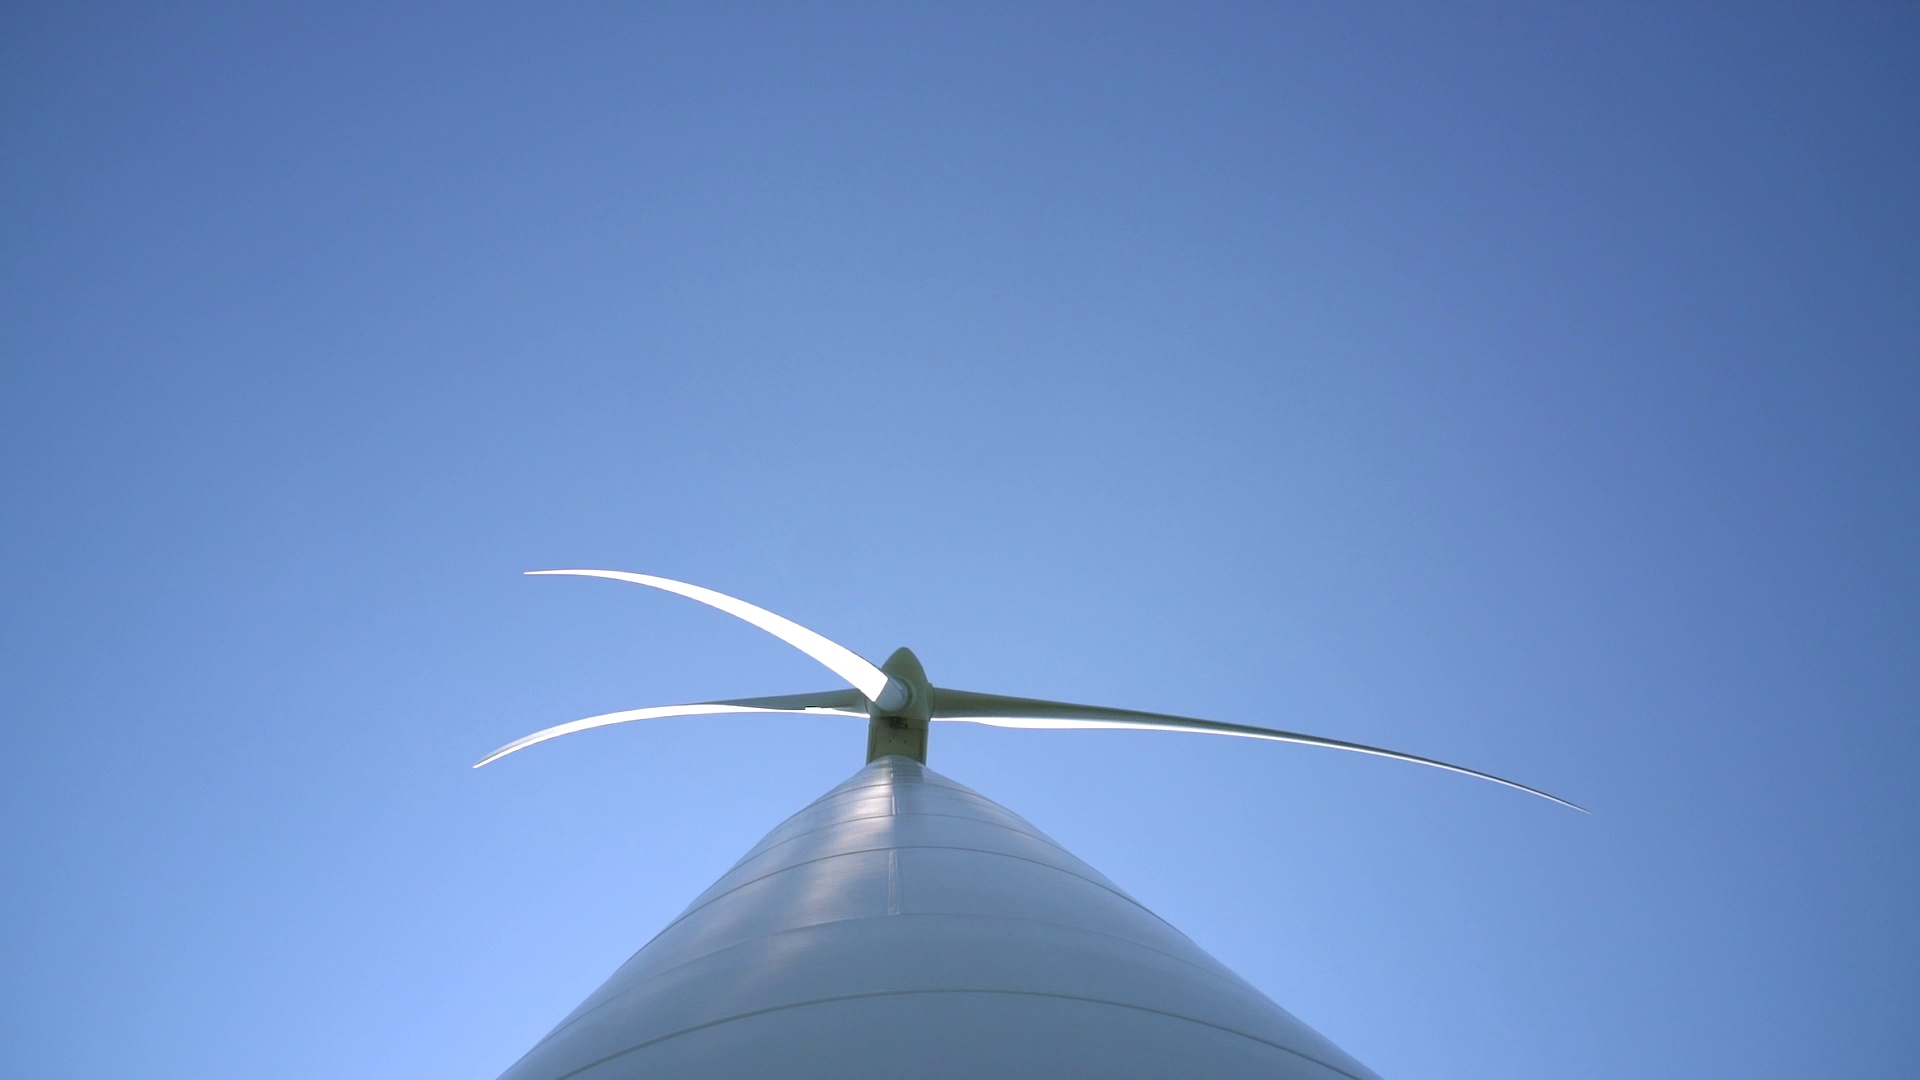turbine: (909, 663, 1629, 825), (489, 524, 919, 727), (433, 676, 874, 785)
